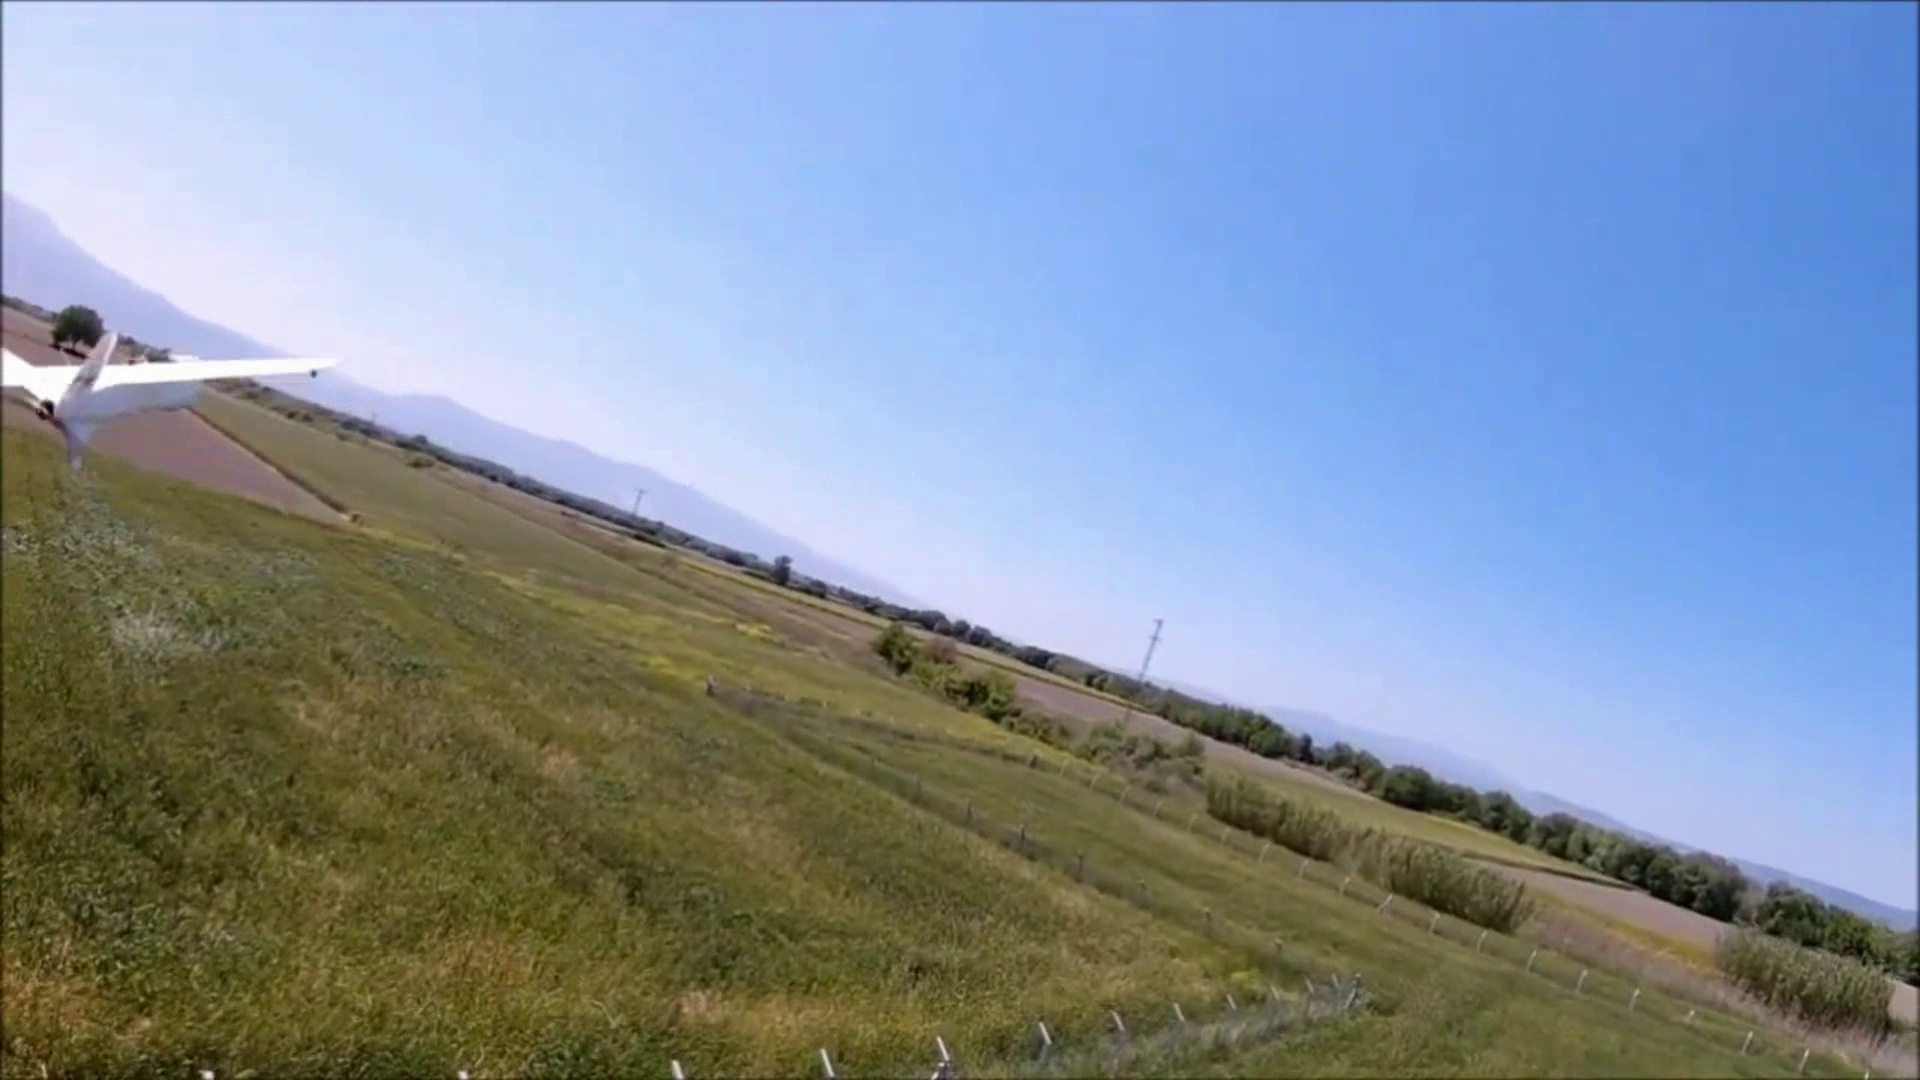airplane: (0, 295, 335, 469)
